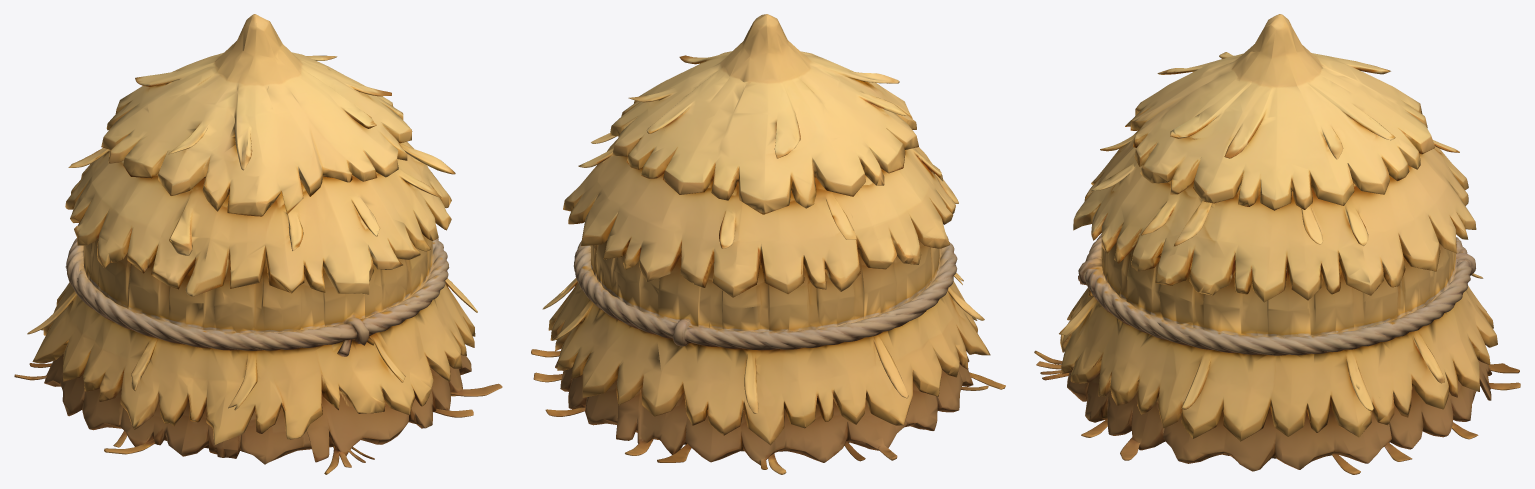
The model's file is haystack-round.glb.
3 views of the same model, side by side, from view 1: azimuth 30°, elevation 25°; view 2: azimuth 150°, elevation 25°; view 3: azimuth 270°, elevation 25° (orthographic).
Parts seen in each view (by area): view 1: node_0; view 2: node_0; view 3: node_0.
Boxes of the visible parts, bbox=[...] form: node_0: bbox=[14, 14, 502, 474]; node_0: bbox=[531, 14, 1005, 474]; node_0: bbox=[1034, 14, 1520, 474].
Size of the model in its own units: 0.8655 by 0.7707 by 0.9183.
Materials: 1 (1 with a texture image).
